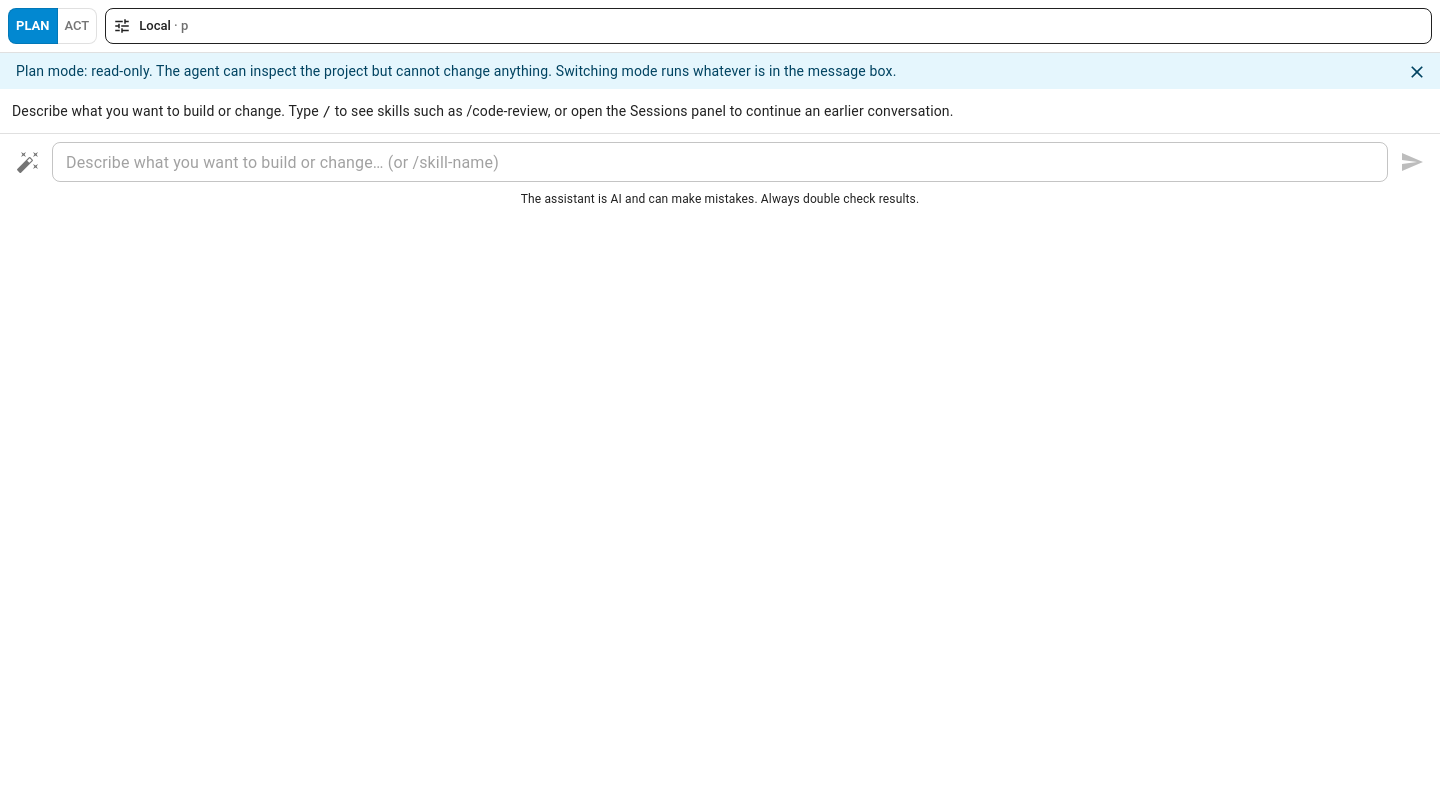
Test: effort and thinking controls › the Thinking switch is always there, disabled with an explanation when the model does not think
What coordinates should you click on to do the following:
click the button with aria-label "Model:"
I would click on:
 (155, 25)
Its box is [105,8,1432,44].
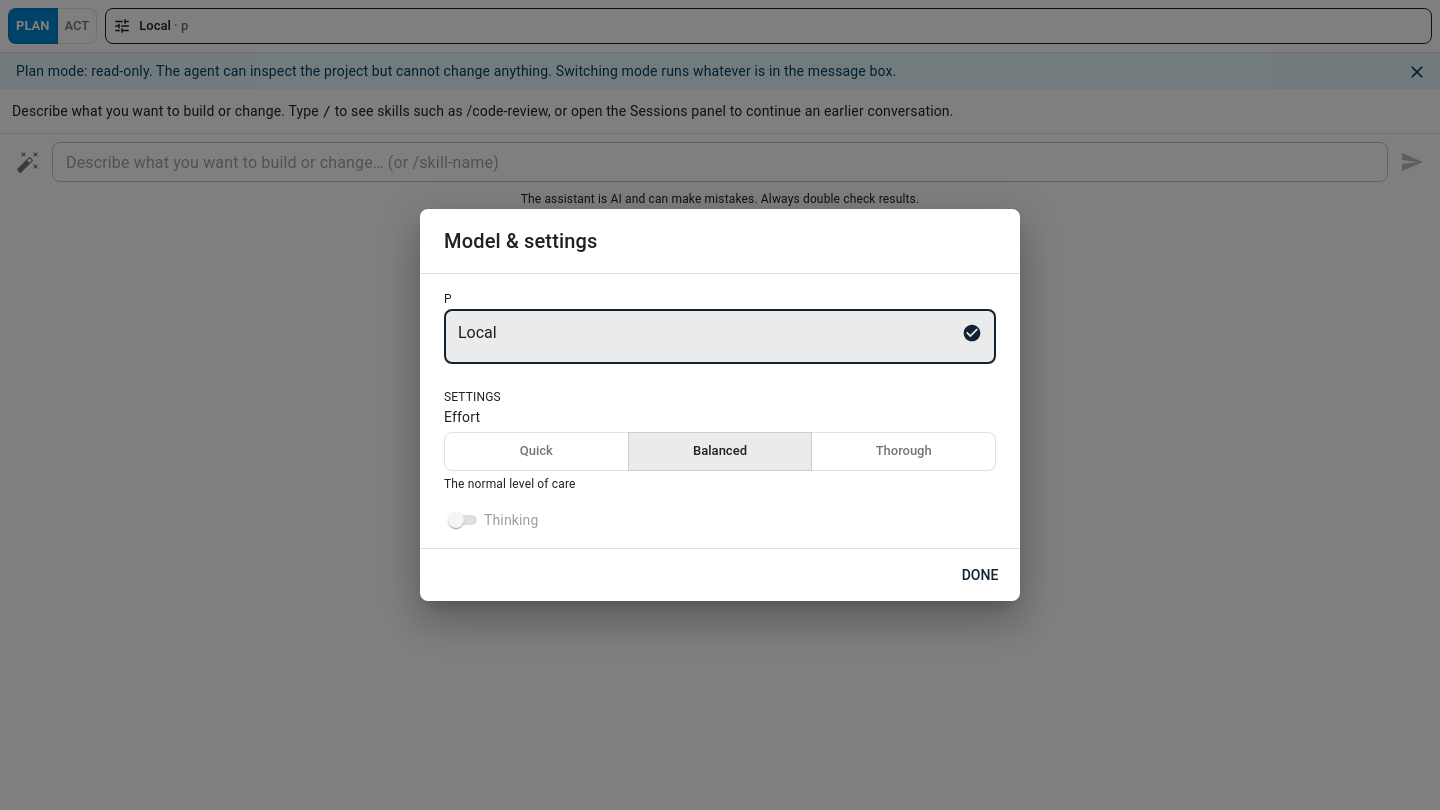
Result: the switch labelled "Thinking" is disabled at [444,508,538,532]
